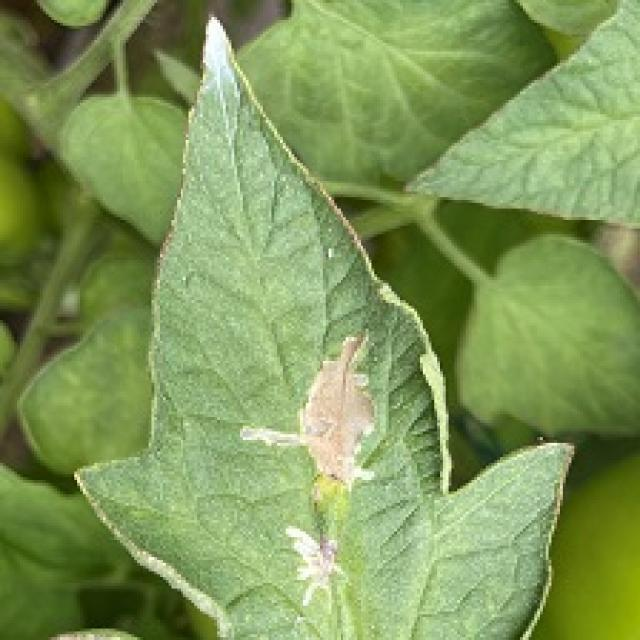Tuta absoluta: (236, 308, 419, 502), (289, 518, 347, 616)
